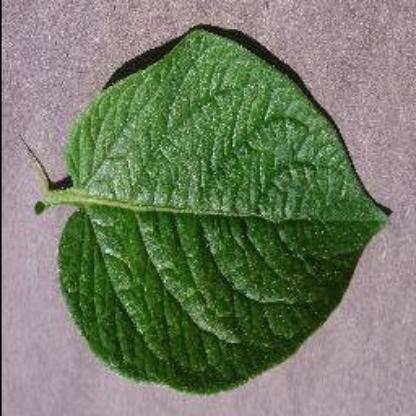Healthy-plant: (45, 23, 389, 396)
